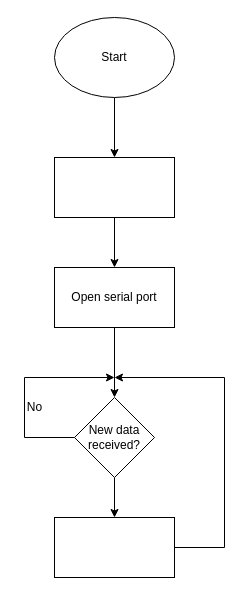
This 250x595 diagram has some shape labels left out. Each missing label, with the centre of its shape:
Print out data and publish to dashboard: point (114, 547)
Read node names and devices from csv files: point (114, 187)
